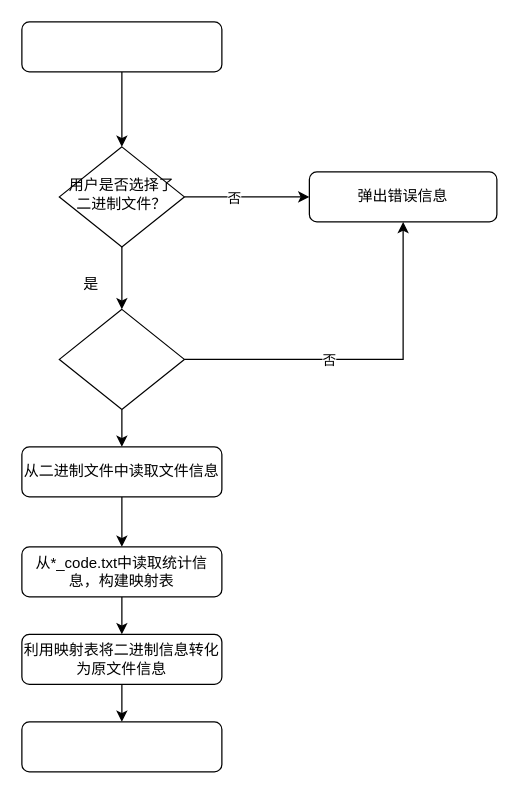
This 519x794 diagram has some shape labels left out. Here are the shapes that lost their labels. From the top down, the centre of each, then its label:
the point at 121,46: 引导用户选择二进制文件*_result.huf
the point at 121,358: 文件夹下是否有统计文件*_code.txt？
the point at 121,746: 将解码结果存入*_reconstruct.txt
